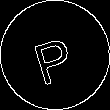P_N: (30, 25, 80, 85)
